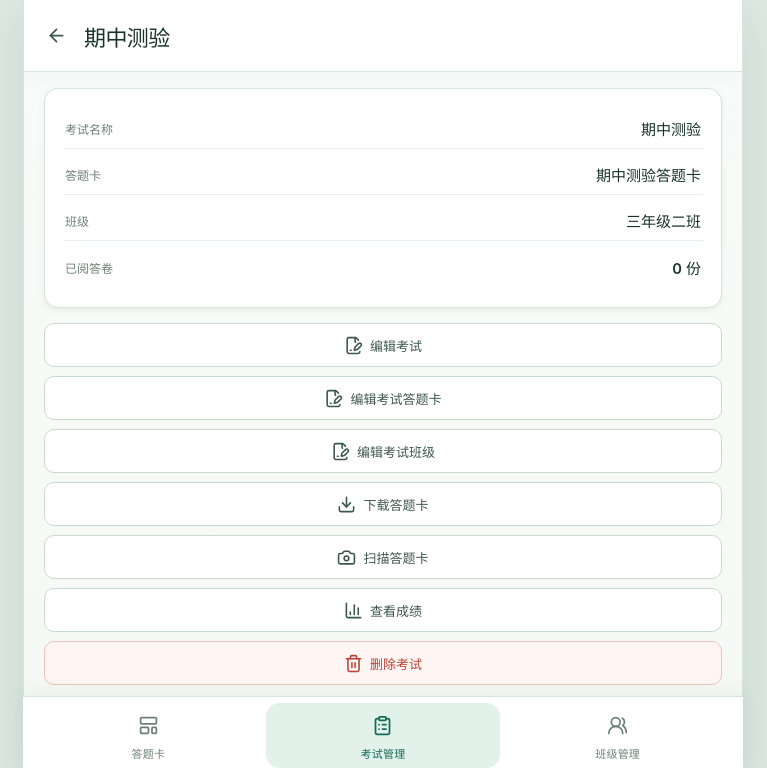
Test: Answer Sheet Manager H5 › opens the answer sheet preview from the exam detail page
Click the button "下载答题卡": (383, 504) [44,482,722,526]
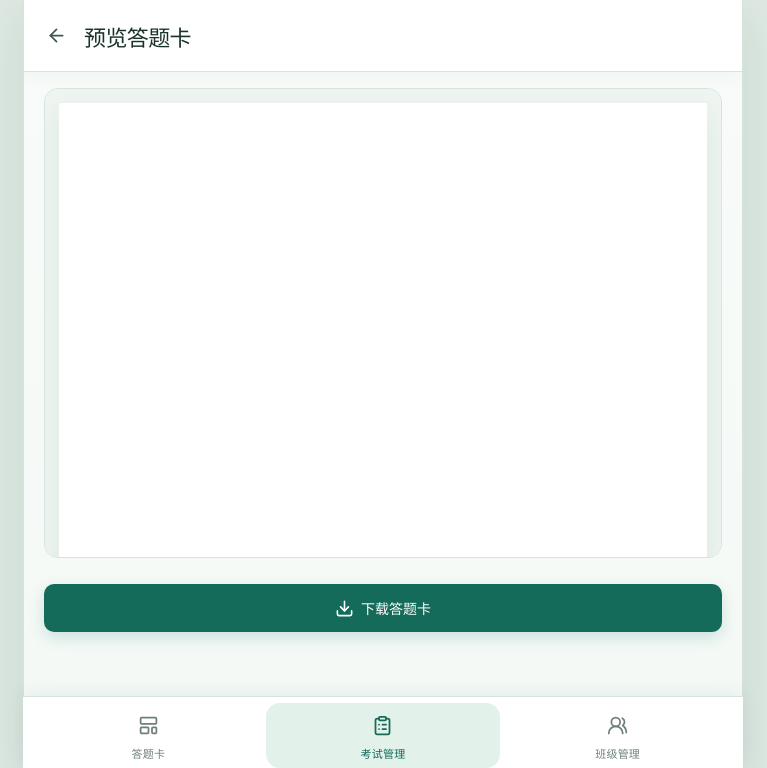
Expected: the button "下载答题卡" is shown, [44,584,722,632]
Now the heading "预览答题卡" is shown, box [84,24,191,50]
